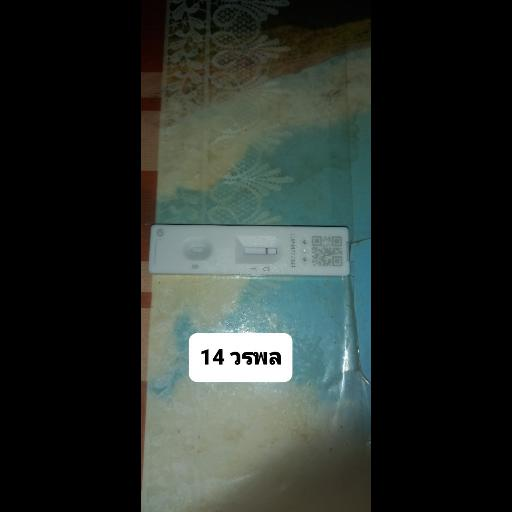Neg: (149, 224, 349, 274)
